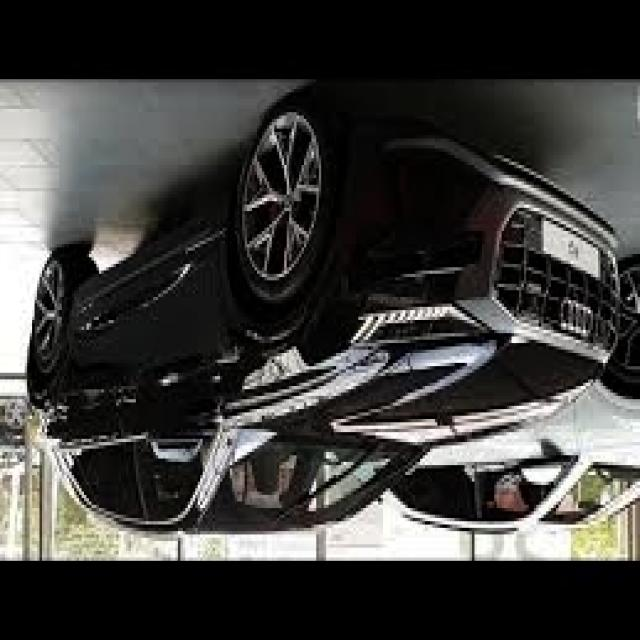black: (18, 102, 633, 500)
